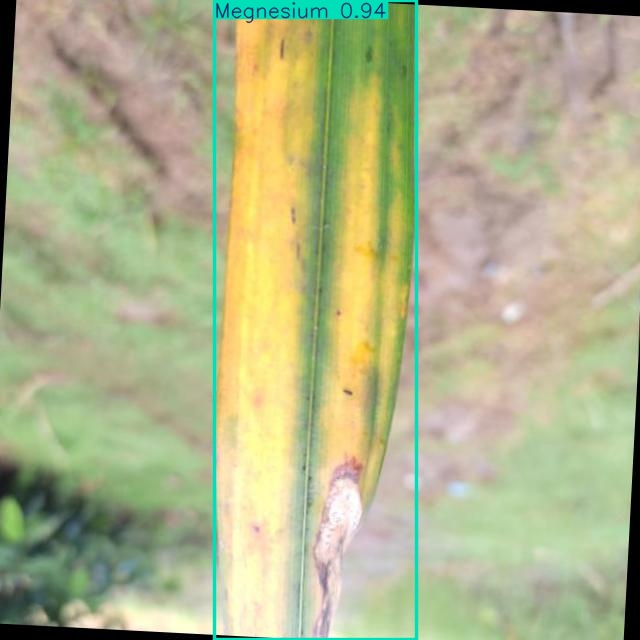Megnesium: (214, 1, 417, 639)
